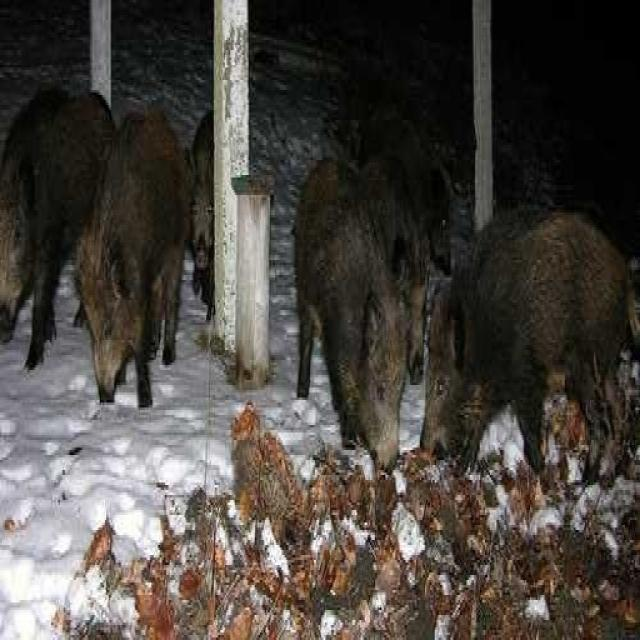pig: (415, 186, 640, 482), (270, 132, 410, 489), (22, 45, 113, 322), (81, 104, 158, 398)
